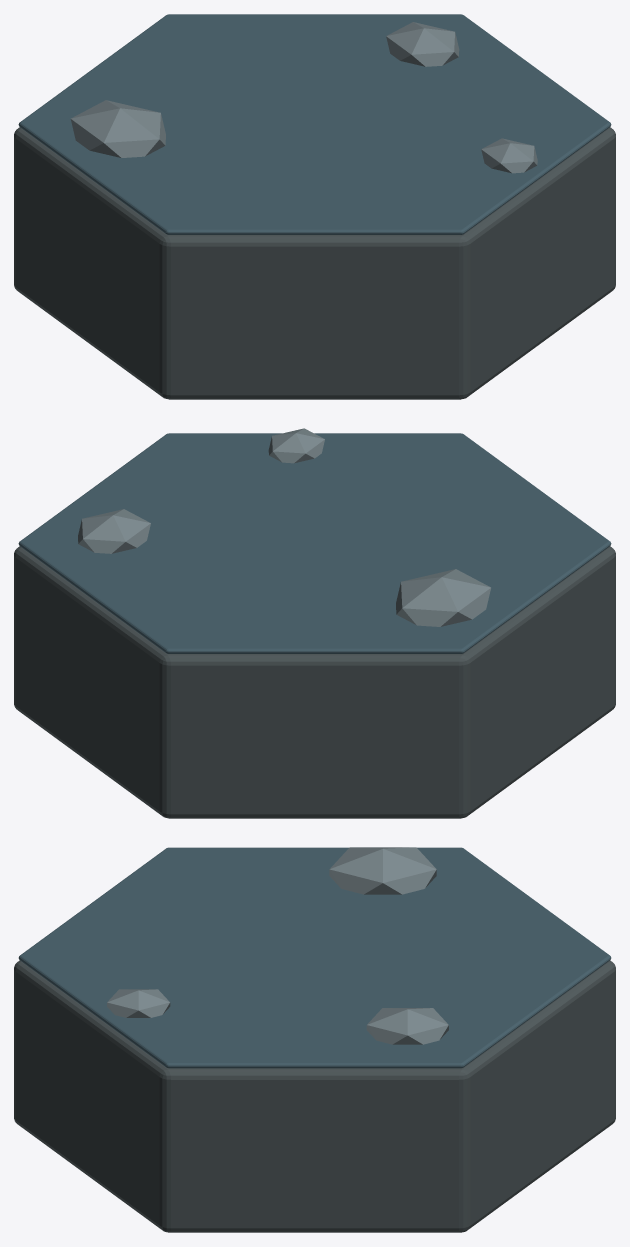
File: hex_mirror.glb
3 views of the same model, one above another, from view 1: azimuth 30°, elevation 25°; view 2: azimuth 150°, elevation 25°; view 3: azimuth 270°, elevation 25° (orthographic).
Visible parts, largest first — view 1: hex_mirror; view 2: hex_mirror; view 3: hex_mirror.
Part boxes in pixels (bbox=[...]): hex_mirror: bbox=[14, 14, 615, 399]; hex_mirror: bbox=[14, 428, 615, 818]; hex_mirror: bbox=[14, 847, 615, 1232].
Size of the model in its own units: 1.7 by 0.7035 by 1.95.
